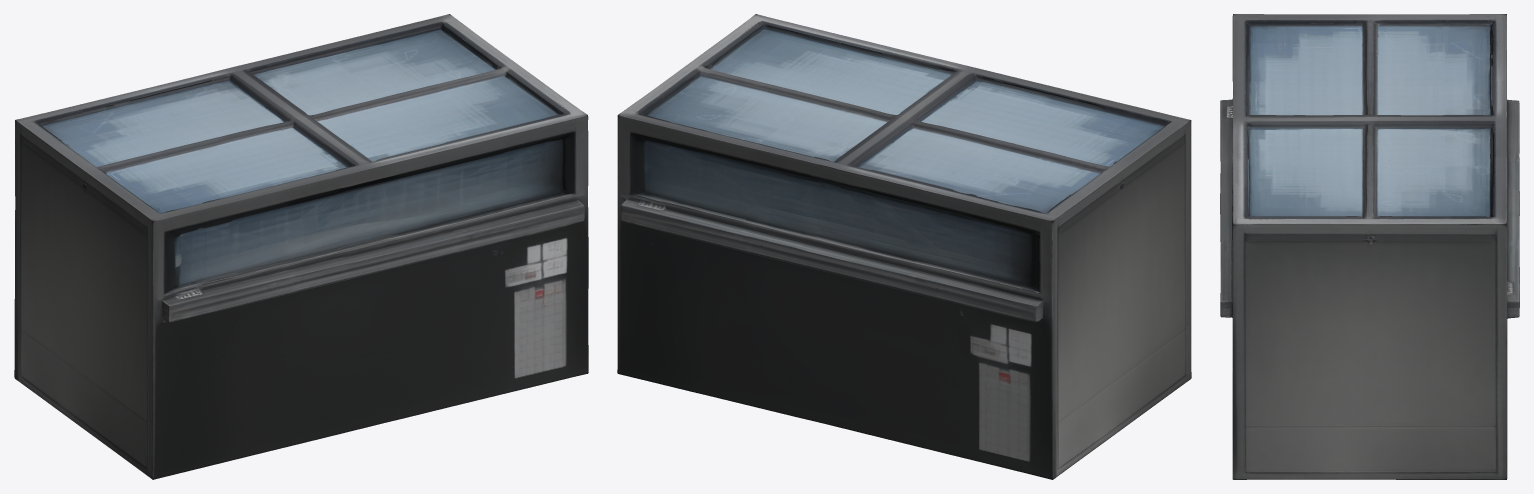
Rendered from 1.5mTopFreezer.glb.
The picture shows the model from 3 angles, left to right: view 1: azimuth 30°, elevation 25°; view 2: azimuth 150°, elevation 25°; view 3: azimuth 270°, elevation 25°; orthographic projection.
Visible parts, largest first — view 1: world; view 2: world; view 3: world.
Boxes of the visible parts, bbox=[...] form: world: bbox=[14, 14, 588, 479]; world: bbox=[617, 14, 1191, 479]; world: bbox=[1220, 14, 1519, 479].
Bounding box in the file's own units: 0.9998 × 0.567 × 0.6017.
Materials: 1 (1 with a texture image).
